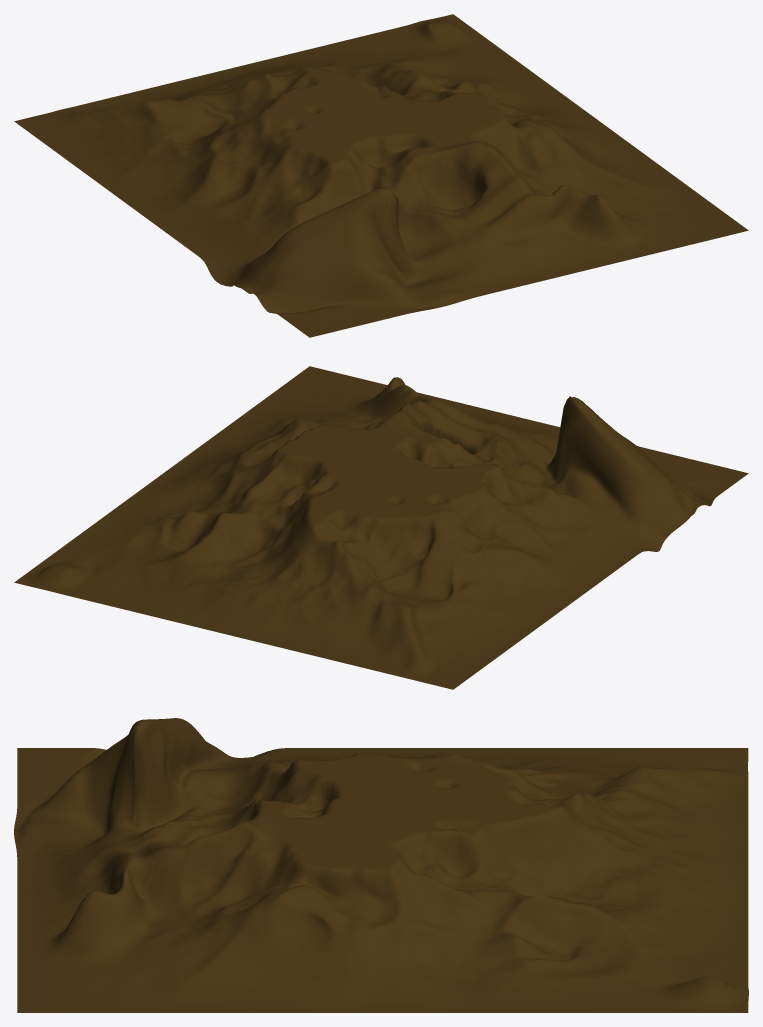
The model's file is mountains.fbx.
3 renders of one model, top to bottom at view 1: azimuth 30°, elevation 25°; view 2: azimuth 150°, elevation 25°; view 3: azimuth 270°, elevation 25°, orthographic. The views are drawn at different scales.
Parts seen in each view (by area): view 1: c; view 2: c; view 3: c.
Part boxes in pixels (box(x1,y1,x2,y2)): c: box(14, 14, 748, 337); c: box(14, 366, 748, 689); c: box(14, 718, 748, 1012).
Size of the model in its own units: 814 by 163 by 943.
